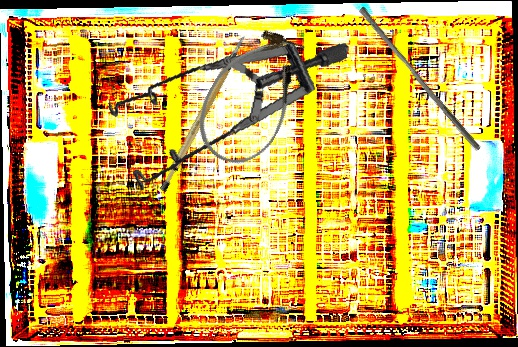Cannula: (182, 15, 321, 179)
Pusher: (353, 5, 487, 153)
Scalpel Handle: (140, 34, 270, 194)
Speculum: (94, 3, 350, 224)
